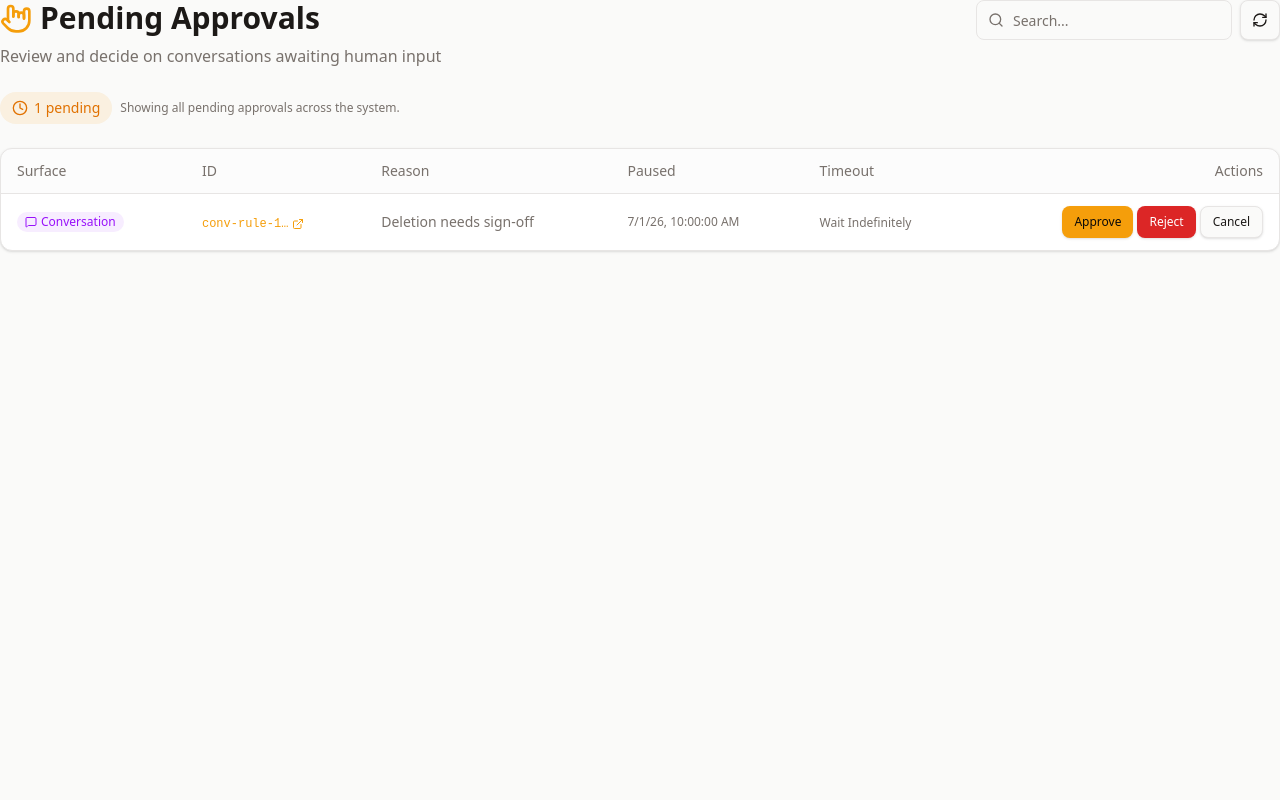
Scenario: ApprovalsPage — confirmation gate on irreversible queue actions › dismissing the Reject confirmation does not send a decision
The width and height of the screenshot is (1280, 800).
Click the button with test id "reject-conv-rule-1" at (1166, 222), box [1137,206,1196,238]
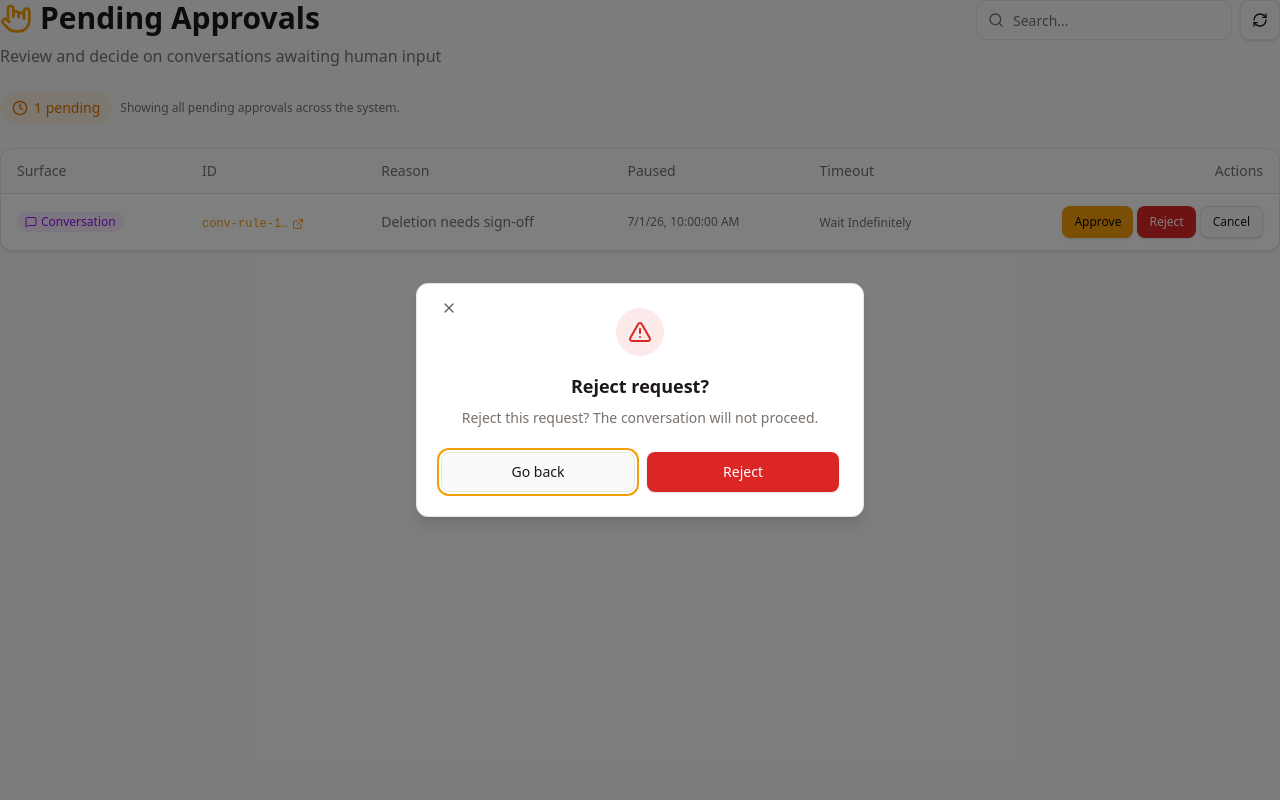
Click the button "Go back" at (538, 472), box [441,452,635,492]
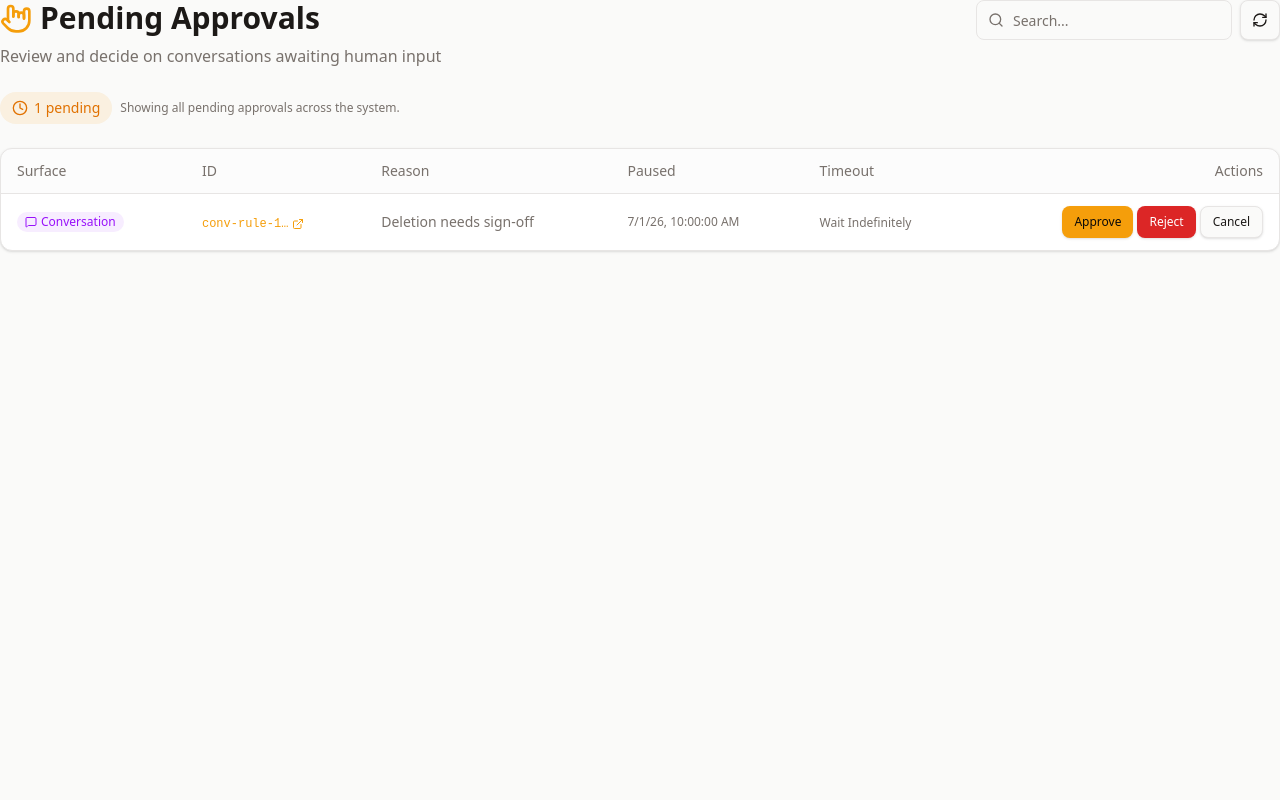
Now the dialog is gone
